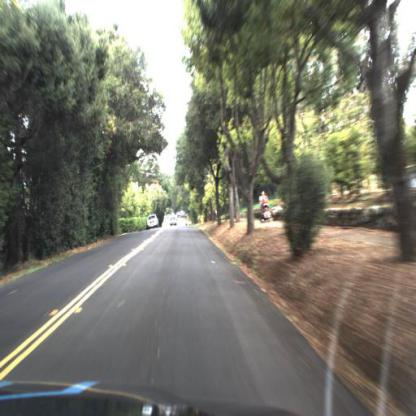biker: (257, 190, 276, 222)
car: (144, 213, 159, 231)
